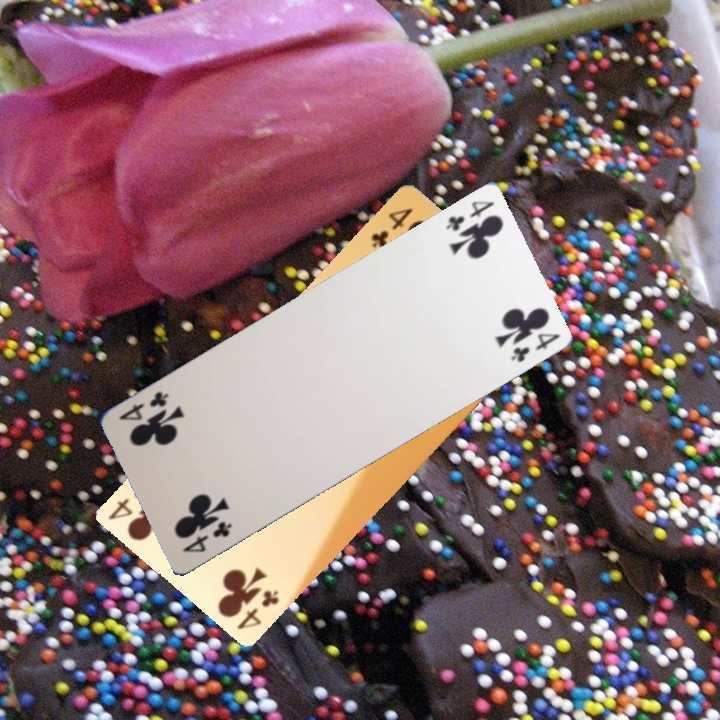4c: (232, 576, 293, 637), (174, 516, 239, 566), (109, 385, 174, 435), (497, 323, 562, 373), (433, 192, 497, 242)
